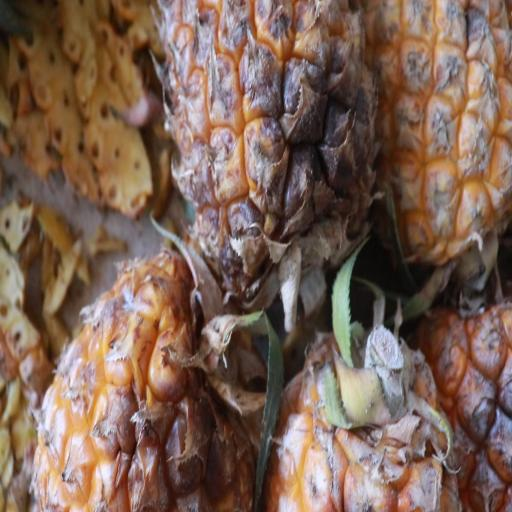Pineapple - v8 v1: (158, 1, 382, 301), (34, 242, 276, 509), (359, 2, 512, 280), (265, 302, 466, 511)
